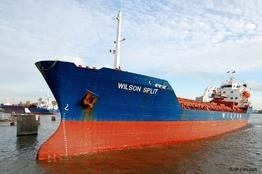Cargoship: (27, 44, 254, 162)
